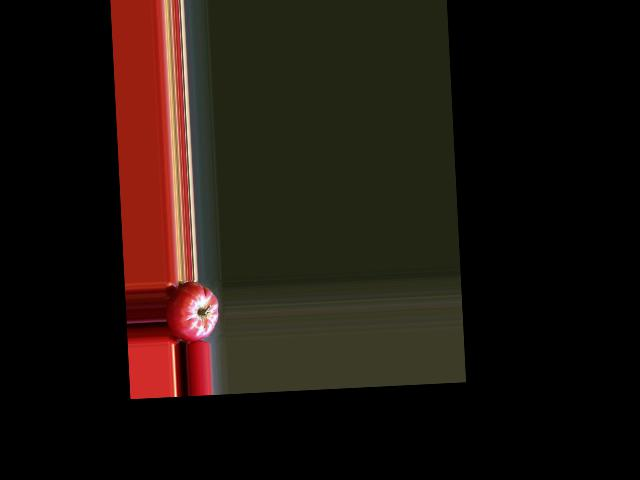tomato: (163, 279, 219, 342)
